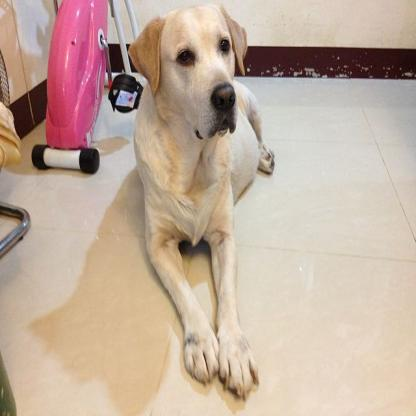Labarador Retriever: (126, 5, 276, 393)
